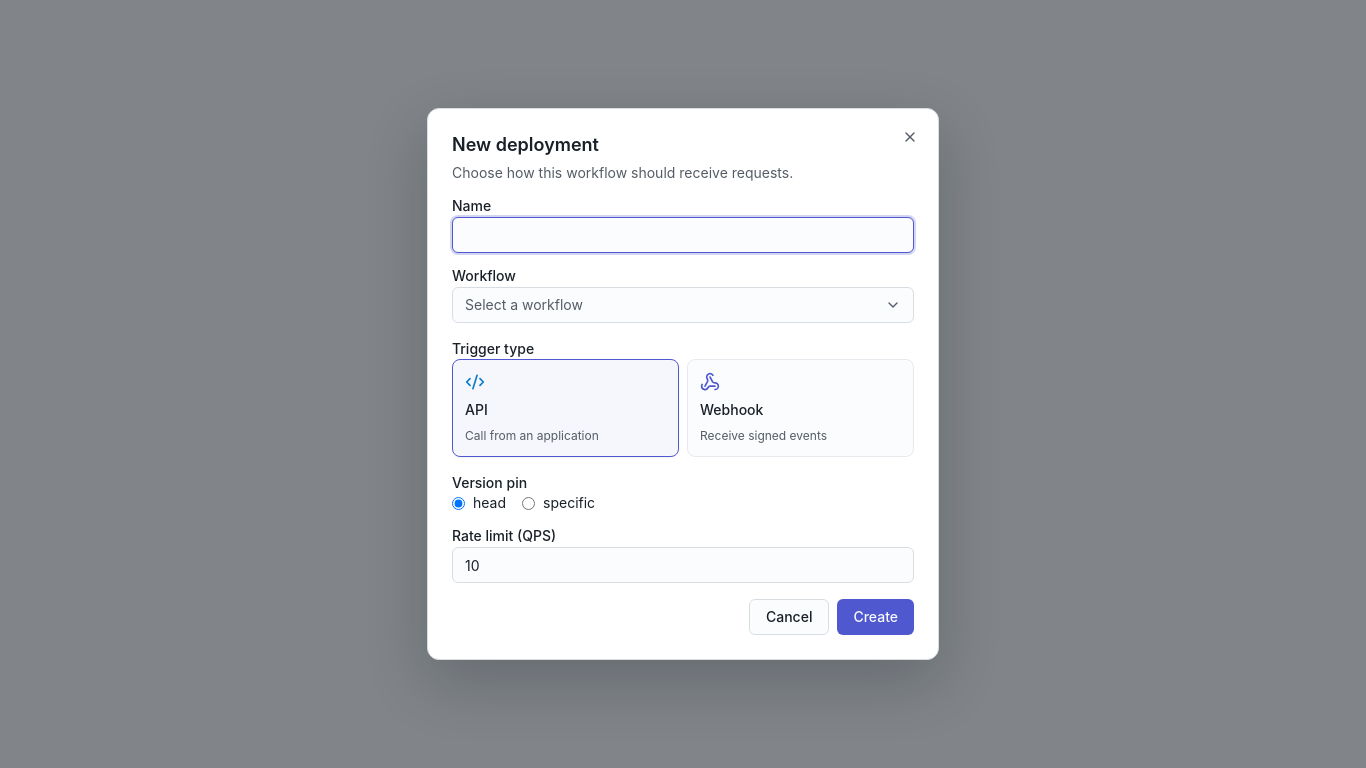
Test case: <CreateDeploymentModal> › lets users scroll and select a workflow from the modal dropdown
What coordinates should you click on to do the following:
click the button labelled "Select a workflow"
I would click on:
 (524, 304)
Its box is [452,287,914,323].
(page scrolled)
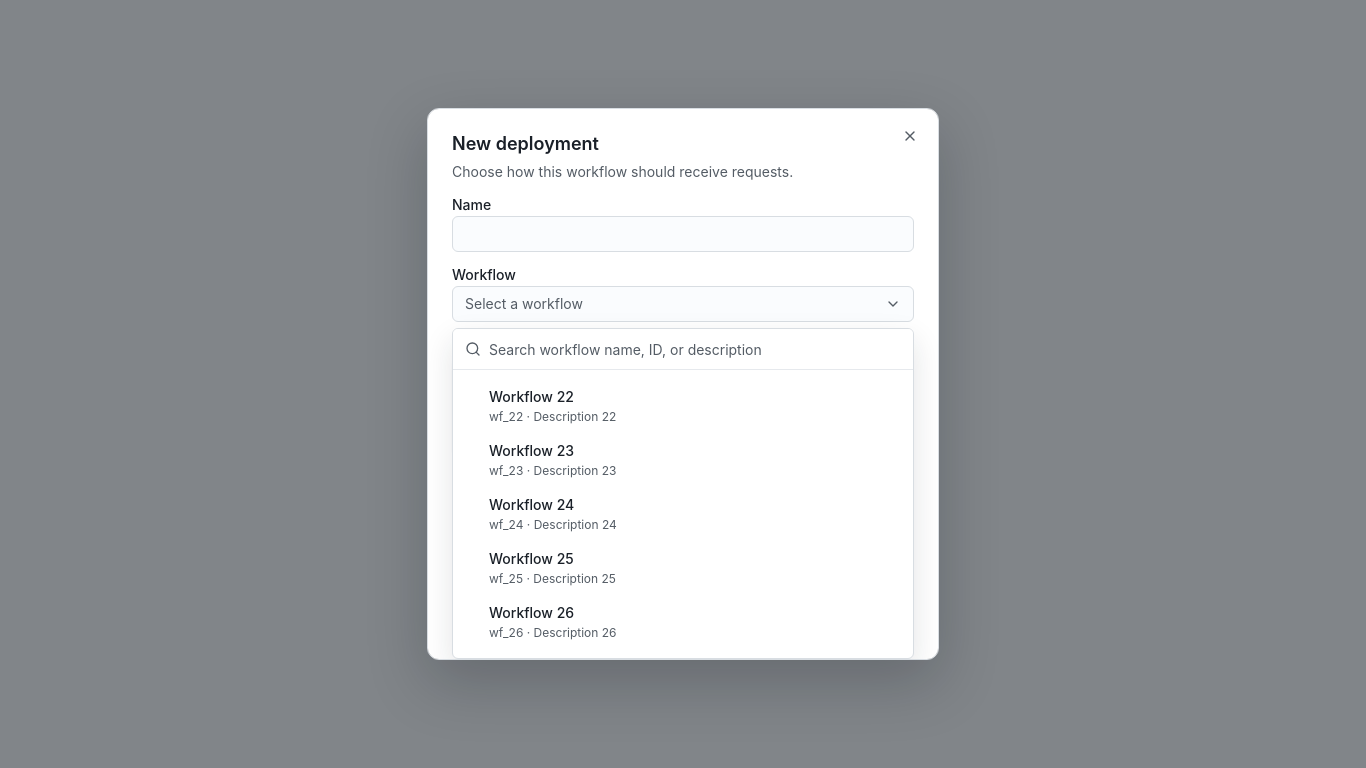
What coordinates should you click on to do the following:
click the option "Workflow 24 wf_24 · Description 24"
I would click on:
 (532, 504)
Its box is [457,487,909,541].
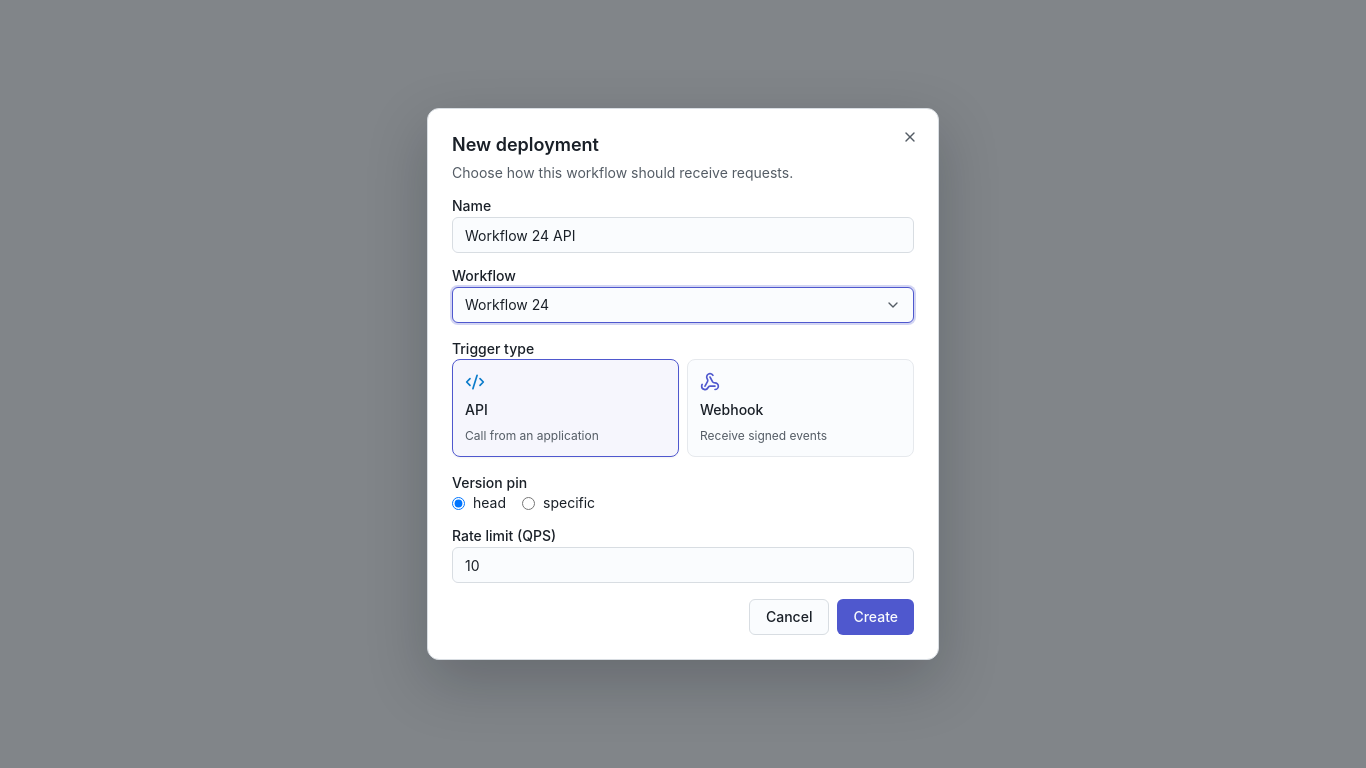
Check: the button labelled "Workflow 24" is shown, box [452,287,914,323]
Check: the list is gone
